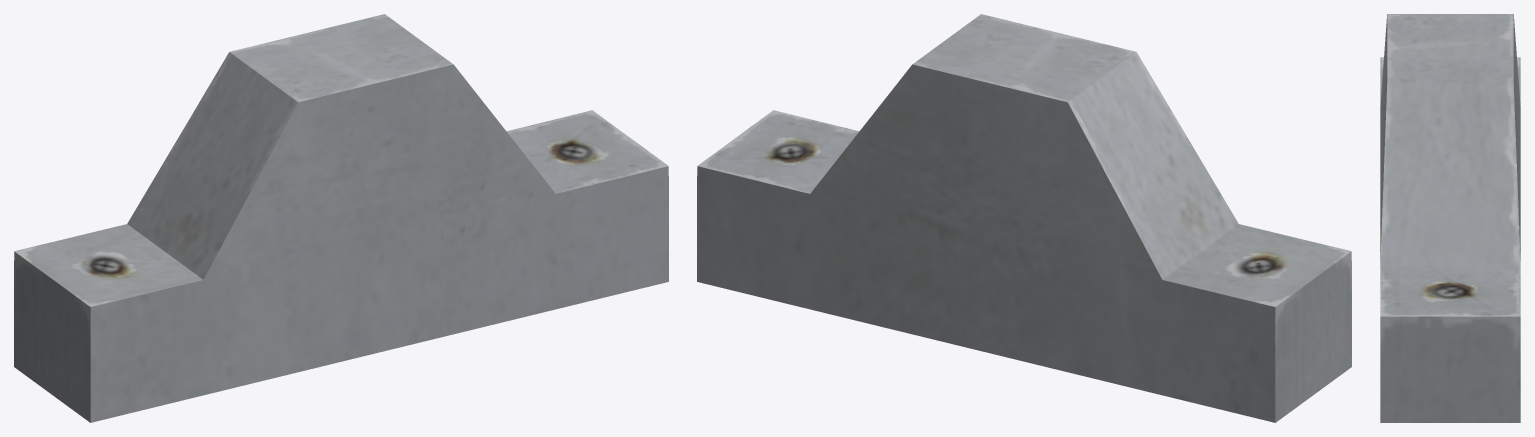
The model's file is Wire_C.FBX.
3 views of the same model, side by side, from view 1: azimuth 30°, elevation 25°; view 2: azimuth 150°, elevation 25°; view 3: azimuth 270°, elevation 25° (orthographic). The views are drawn at different scales.
Visible parts, largest first — view 1: Wire_C; view 2: Wire_C; view 3: Wire_C.
Boxes of the visible parts, x1,y1,x2,y2 form: Wire_C: (14,14,668,422); Wire_C: (697,14,1351,422); Wire_C: (1380,14,1520,422).
Bounding box in the file's own units: 5.41 × 1.24 × 2.38.
1 material, 1 textured.
